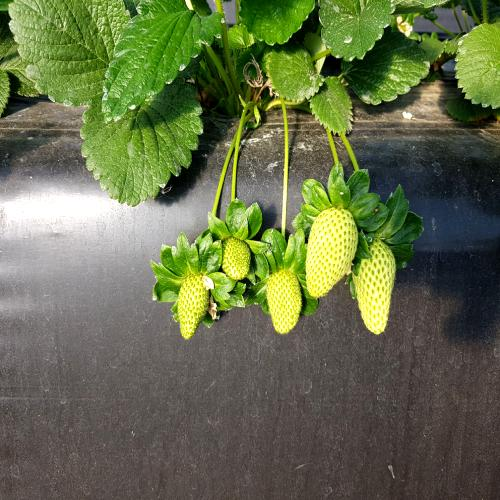unripe: (304, 202, 361, 299), (355, 233, 400, 336), (173, 269, 216, 345), (262, 266, 305, 339), (216, 226, 256, 290)
